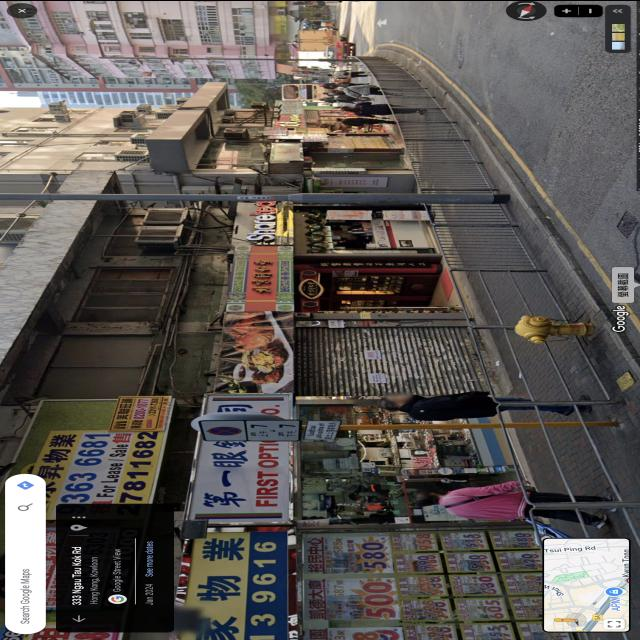Order-Sign: (199, 419, 300, 440), (303, 419, 339, 439)
